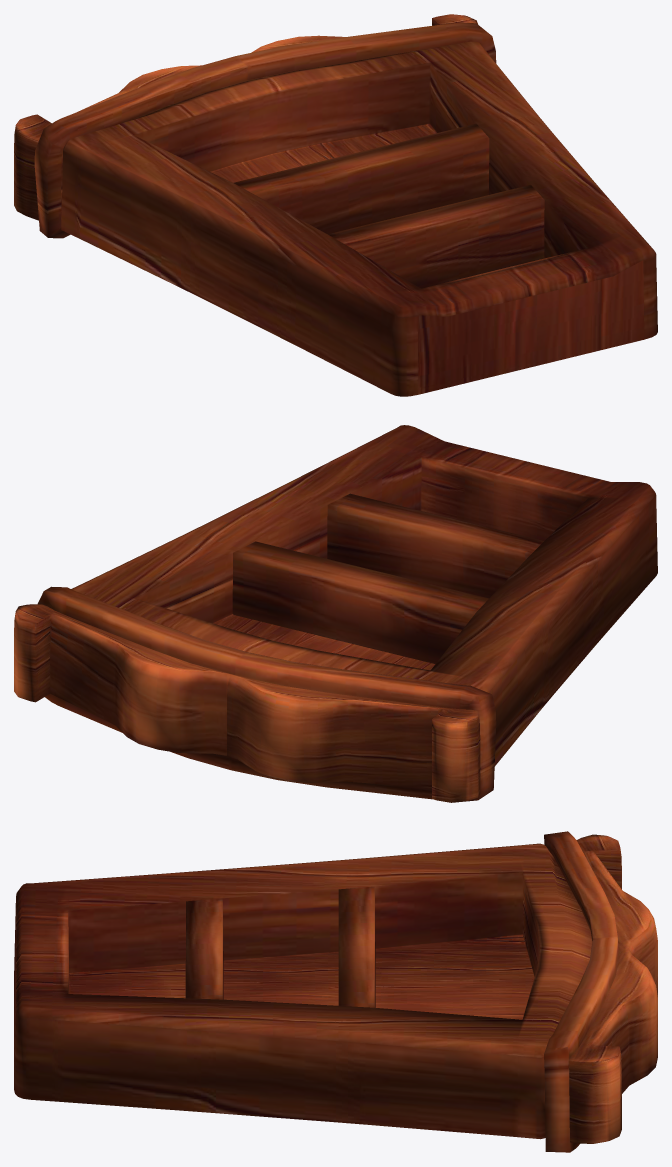
The model's file is Biblioteca Fin.FBX.
3 views of the same model, one above another, from view 1: azimuth 30°, elevation 25°; view 2: azimuth 150°, elevation 25°; view 3: azimuth 270°, elevation 25° (orthographic). The views are drawn at different scales.
Visible parts, largest first — view 1: Biblioteca; view 2: Biblioteca; view 3: Biblioteca.
Boxes of the visible parts, x1=… form: Biblioteca: x1=14, y1=14, x2=657, y2=396; Biblioteca: x1=14, y1=425, x2=657, y2=802; Biblioteca: x1=14, y1=831, x2=657, y2=1152.
Bounding box in the file's own units: 71.39 × 16.13 × 84.62.
1 material, 1 textured.
